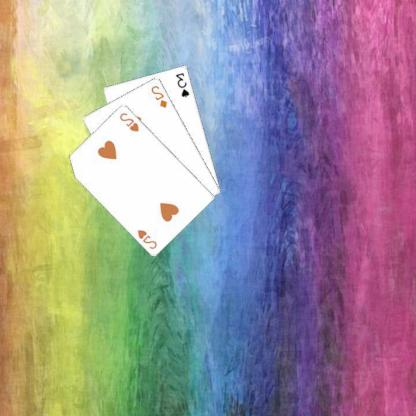2D: (150, 82, 170, 109)
2H: (137, 227, 160, 250), (119, 110, 142, 132)
3S: (176, 70, 192, 98)
